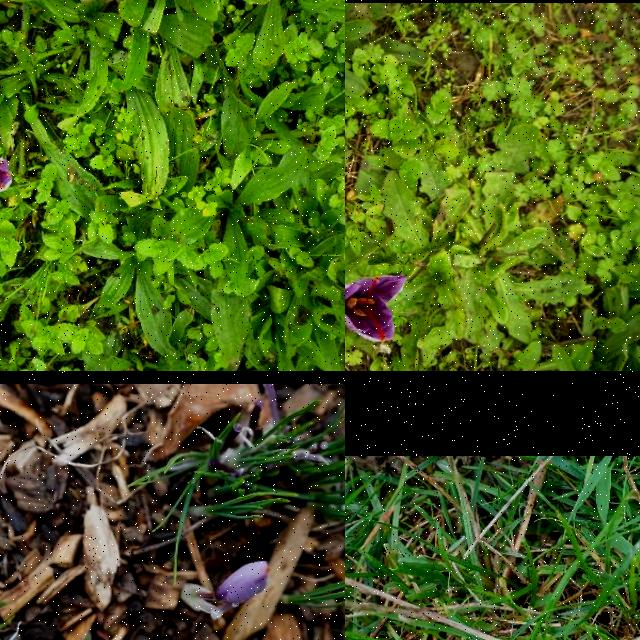flower: (345, 274, 409, 343), (215, 562, 271, 608), (0, 157, 13, 192)
